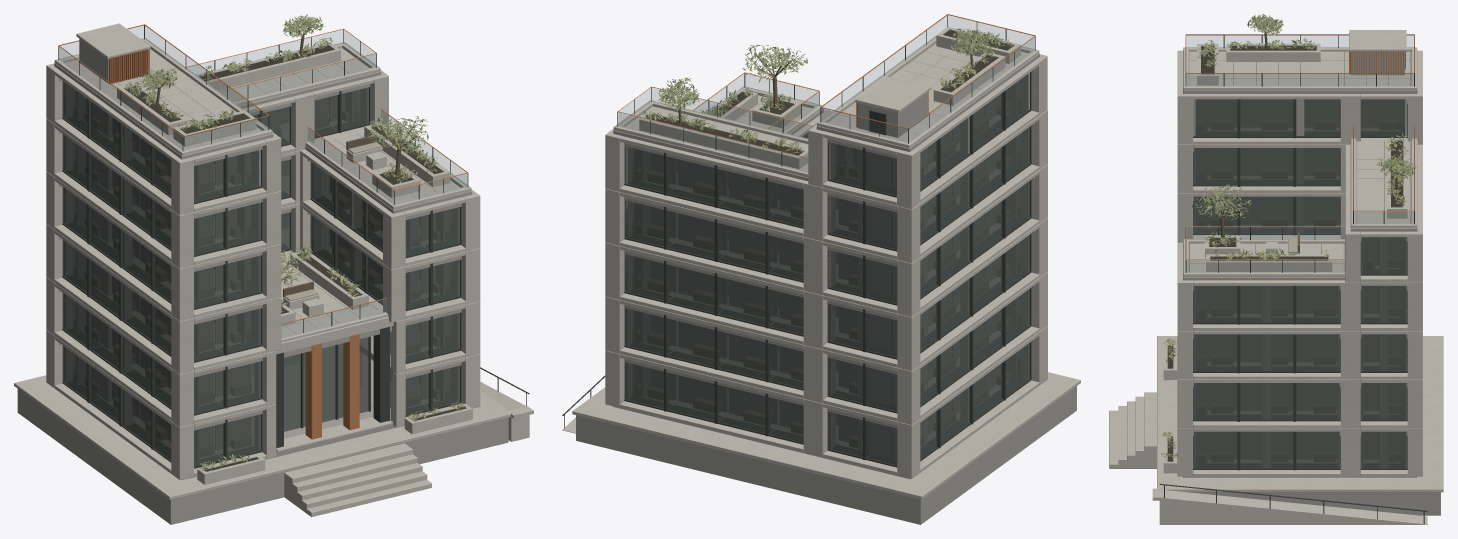
The model's file is formwork-courtyard.glb.
3 renders of one model, left to right at view 1: azimuth 30°, elevation 25°; view 2: azimuth 150°, elevation 25°; view 3: azimuth 270°, elevation 25°, orthographic. The views are drawn at different scales.
Visible parts, largest first — view 1: base_-1, facade_4, facade_2, facade_0, facade_5, facade_6, frame_0, facade_3, frame_3, frame_2, facade_1, frame_4 (+9 smaller); view 2: base_-1, facade_4, facade_5, facade_6, facade_2, facade_0, facade_1, facade_3, frame_4, frame_3, frame_0, frame_2 (+9 smaller); view 3: base_-1, facade_4, facade_6, facade_5, facade_3, facade_0, facade_2, facade_1, frame_3, frame_4, frame_5, frame_1 (+9 smaller).
Boxes of the visible parts, bbox=[...] form: base_-1: bbox=[14, 367, 533, 524]; facade_4: bbox=[62, 87, 471, 256]; facade_2: bbox=[62, 212, 461, 362]; facade_0: bbox=[62, 336, 472, 484]; facade_5: bbox=[62, 14, 380, 204]; facade_6: bbox=[54, 23, 272, 155]; frame_0: bbox=[46, 327, 480, 479]; facade_3: bbox=[62, 159, 461, 309]; frame_3: bbox=[46, 149, 480, 321]; frame_2: bbox=[46, 203, 480, 374]; facade_1: bbox=[62, 292, 461, 415]; frame_4: bbox=[46, 70, 388, 268]; base_-1: bbox=[562, 372, 1080, 524]; facade_4: bbox=[624, 45, 1031, 251]; facade_5: bbox=[613, 72, 1031, 197]; facade_6: bbox=[817, 14, 1039, 148]; facade_2: bbox=[624, 234, 1031, 359]; facade_0: bbox=[624, 342, 1031, 467]; facade_1: bbox=[624, 288, 1031, 413]; facade_3: bbox=[624, 132, 1031, 305]; frame_4: bbox=[605, 110, 1047, 263]; frame_3: bbox=[605, 109, 1047, 317]; frame_0: bbox=[605, 326, 1047, 478]; frame_2: bbox=[605, 218, 1047, 371]; base_-1: bbox=[1109, 336, 1443, 524]; facade_4: bbox=[1183, 148, 1407, 276]; facade_6: bbox=[1183, 14, 1417, 90]; facade_5: bbox=[1193, 99, 1417, 228]; facade_3: bbox=[1193, 196, 1407, 324]; facade_0: bbox=[1161, 338, 1407, 473]; facade_2: bbox=[1193, 230, 1407, 373]; facade_1: bbox=[1193, 383, 1407, 421]; frame_3: bbox=[1177, 193, 1422, 330]; frame_4: bbox=[1177, 144, 1422, 282]; frame_5: bbox=[1177, 50, 1422, 144]; frame_1: bbox=[1177, 379, 1422, 428].
Bounding box in the file's own units: 11.45 × 12.16 × 9.97.
17 materials, 1 textured.
